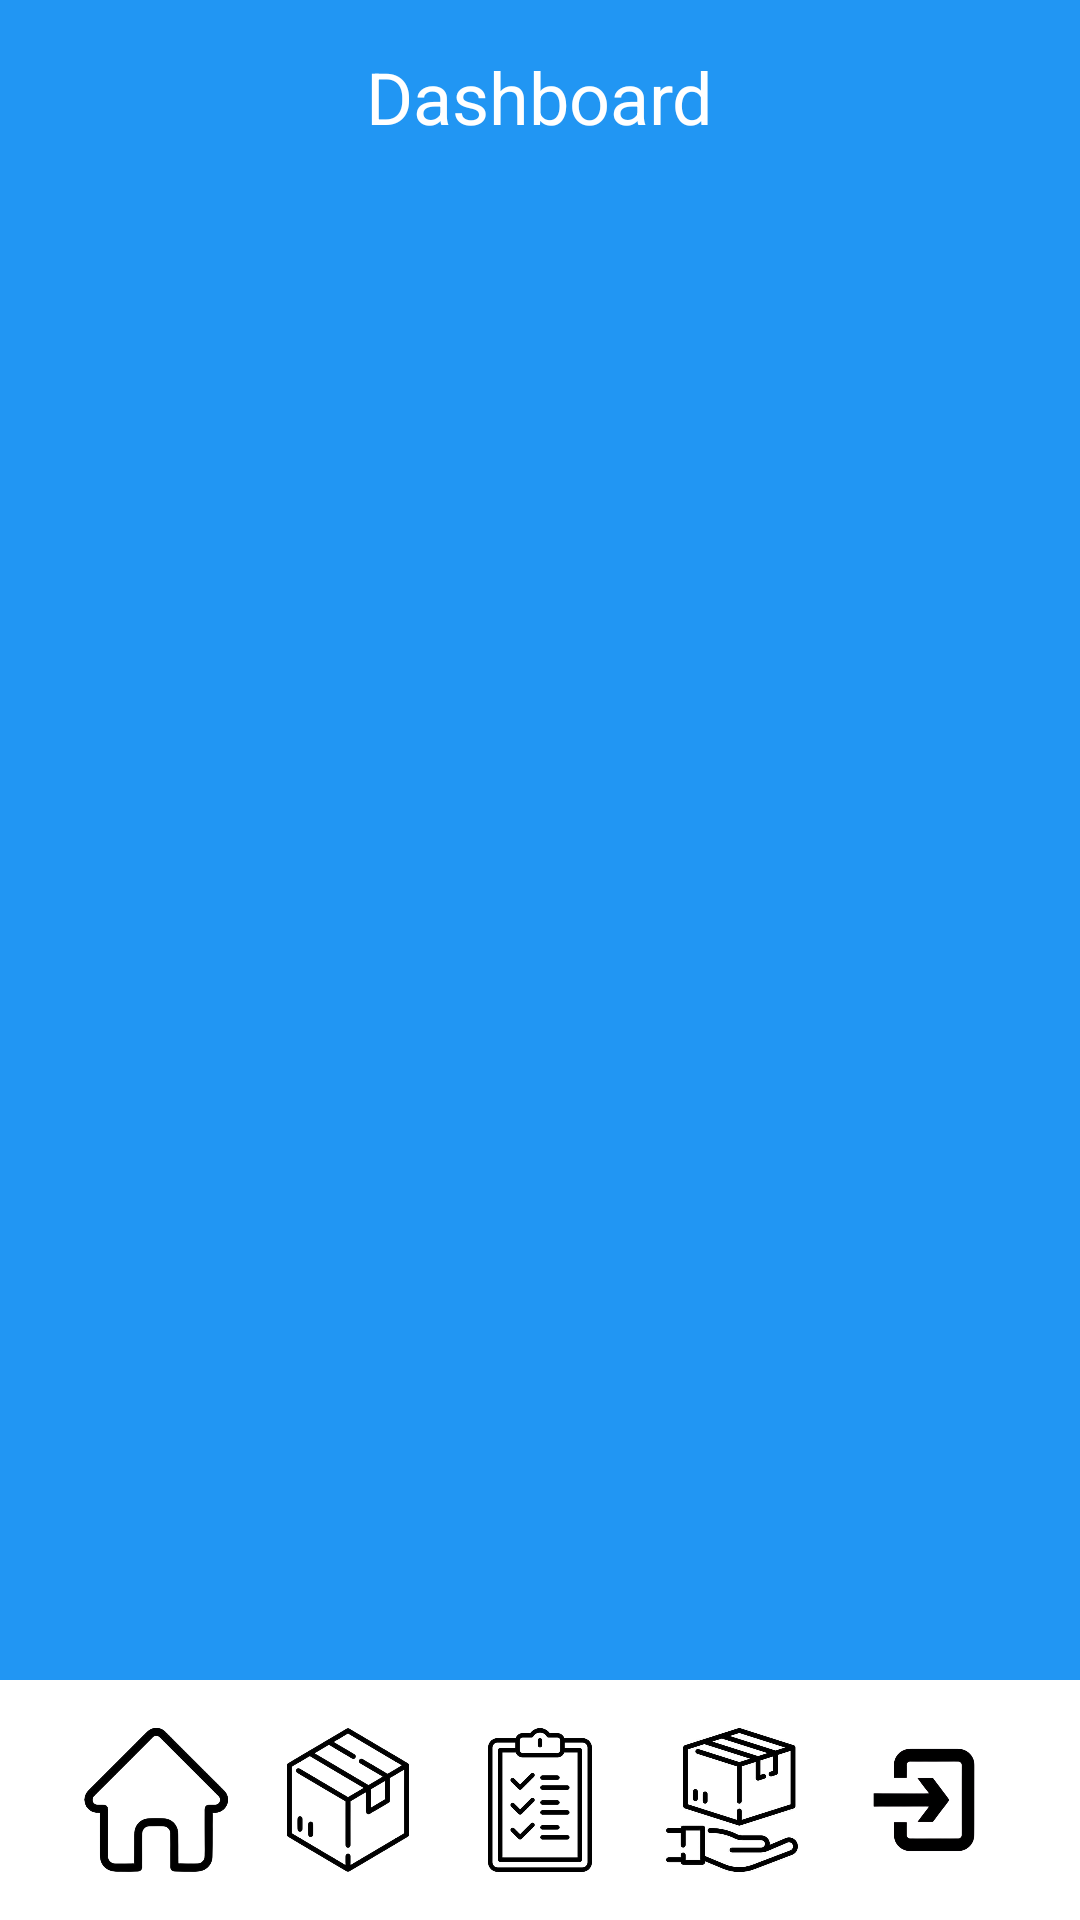

Locate icon controls on the screen. Image size 1080 x 1920, boxes as (x1, y1, x2, y2).
beranda: (84, 1728, 228, 1872)
